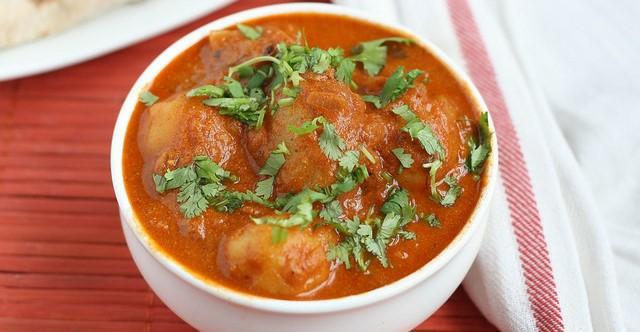DumAloo: (121, 10, 493, 302)
